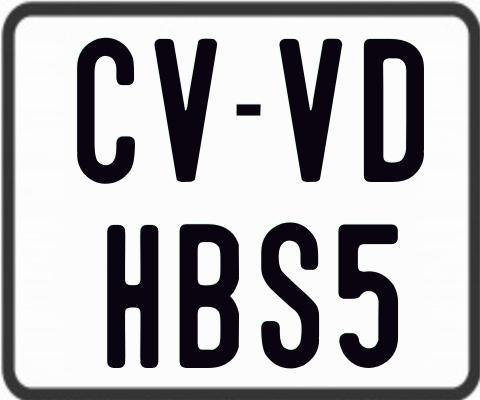5: (338, 223, 402, 370)
B: (178, 223, 238, 370)
C: (75, 37, 136, 185)
D: (364, 39, 425, 182)
H: (105, 223, 156, 366)
S: (261, 219, 325, 370)
V: (155, 39, 218, 183), (279, 36, 341, 179)
